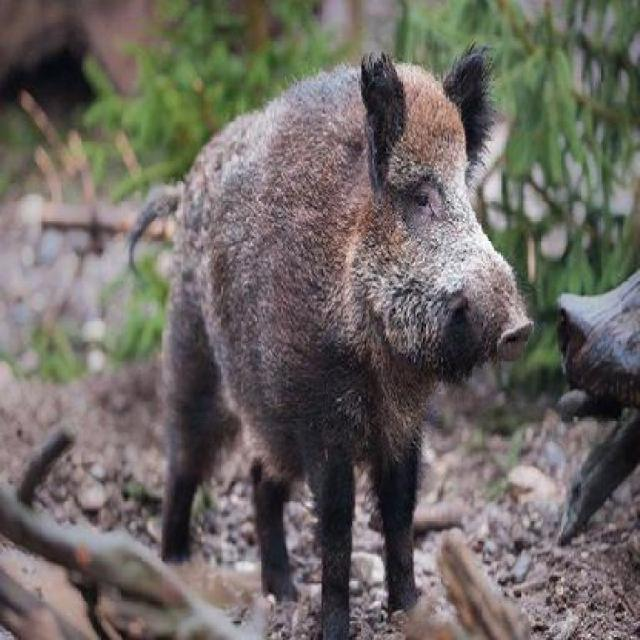wildboar: (120, 37, 535, 640)
